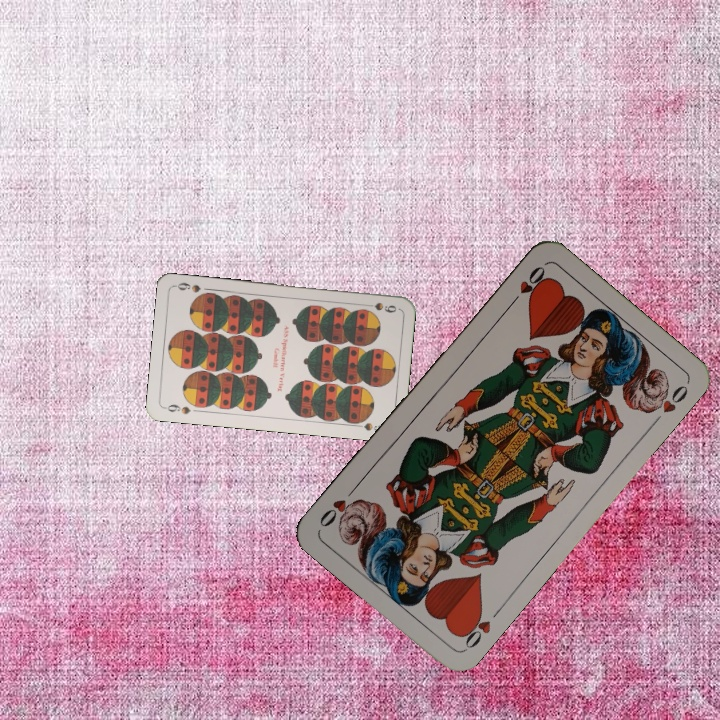HO: (455, 604, 504, 652), (504, 261, 548, 310)
S9: (359, 299, 399, 315), (160, 400, 193, 417)
